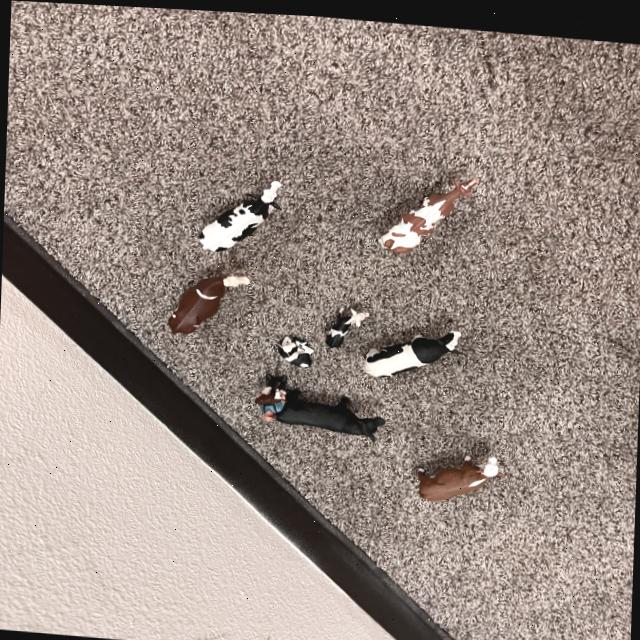cow: (377, 156, 482, 258), (157, 251, 251, 342), (193, 175, 295, 258), (359, 318, 466, 378), (274, 382, 388, 438), (411, 439, 506, 501), (316, 293, 369, 348), (271, 326, 319, 368), (253, 383, 281, 405)
person: (261, 406, 277, 421), (5, 147, 8, 153)
